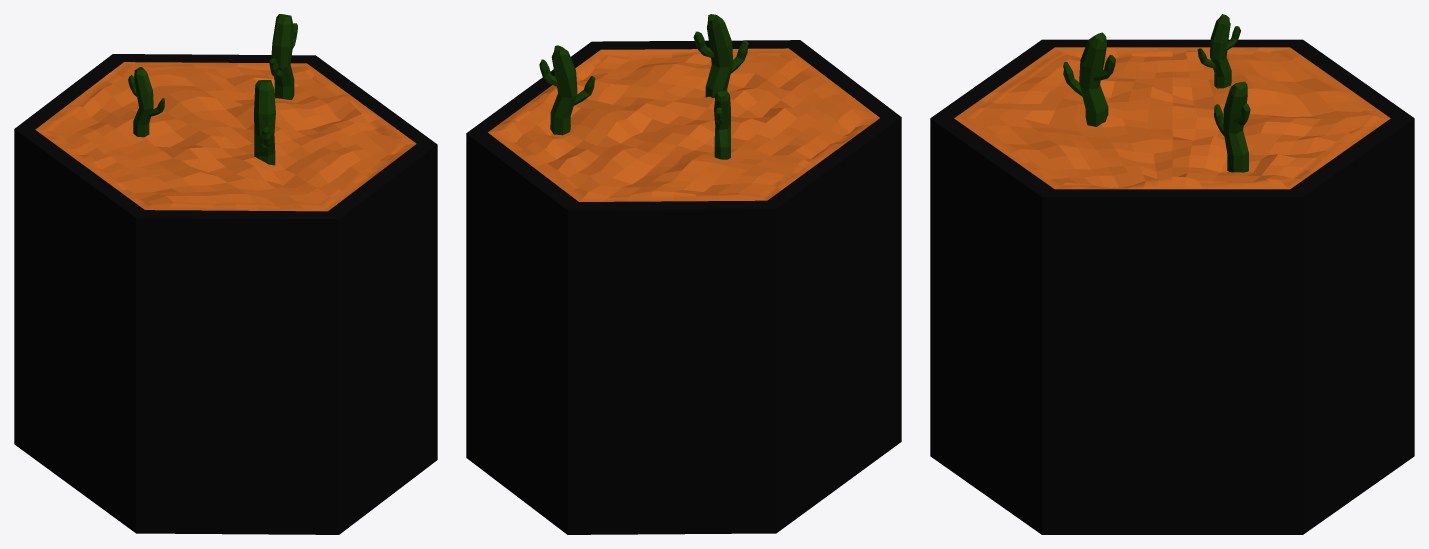
Rendered from desert-hex-2.obj.
3 renders of one model, left to right at view 1: azimuth 30°, elevation 25°; view 2: azimuth 150°, elevation 25°; view 3: azimuth 270°, elevation 25°, orthographic. The views are drawn at different scales.
Visible parts, largest first — view 1: Cube.001_Cube, Cylinder.001, Cylinder.006, Cylinder.004; view 2: Cube.001_Cube, Cylinder.001, Cylinder.006, Cylinder.004; view 3: Cube.001_Cube, Cylinder.006, Cylinder.001, Cylinder.004.
Part boxes in pixels (left/top/right/bottom): Cube.001_Cube: left=14, top=54, right=437, bottom=534; Cylinder.001: left=269, top=14, right=297, bottom=99; Cylinder.006: left=254, top=80, right=275, bottom=165; Cylinder.004: left=128, top=67, right=164, bottom=137; Cube.001_Cube: left=466, top=40, right=901, bottom=534; Cylinder.001: left=539, top=45, right=595, bottom=135; Cylinder.006: left=693, top=14, right=748, bottom=97; Cylinder.004: left=714, top=91, right=730, bottom=159; Cube.001_Cube: left=930, top=39, right=1414, bottom=534; Cylinder.006: left=1063, top=32, right=1115, bottom=126; Cylinder.001: left=1214, top=81, right=1250, bottom=172; Cylinder.004: left=1197, top=14, right=1240, bottom=88.
Size of the model in its own units: 2 by 2.51 by 2.6.
